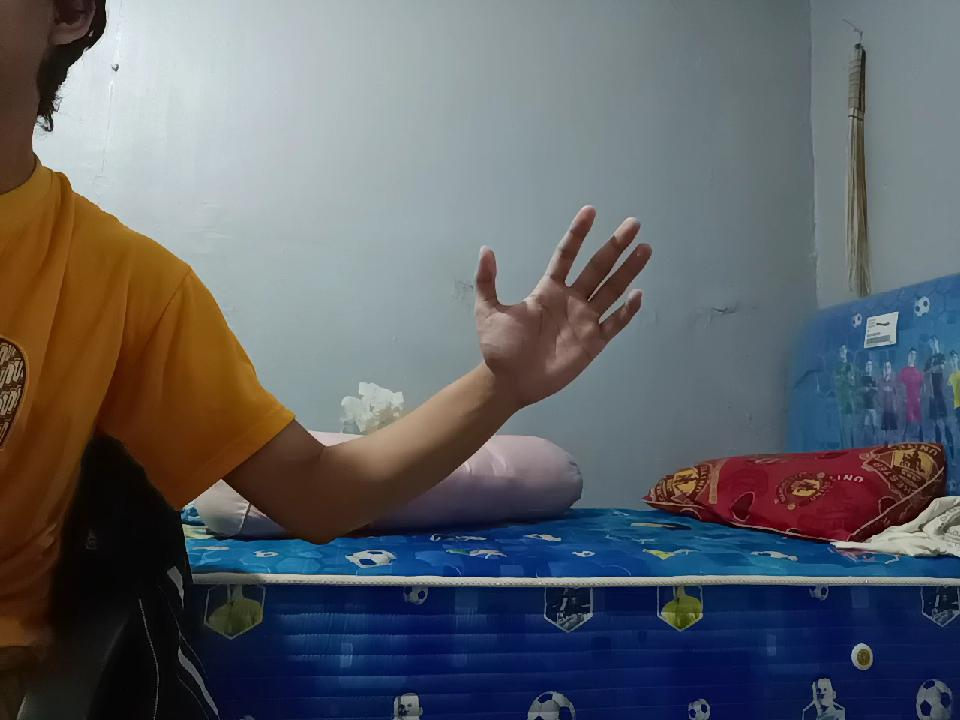paper: (473, 194, 647, 398)
